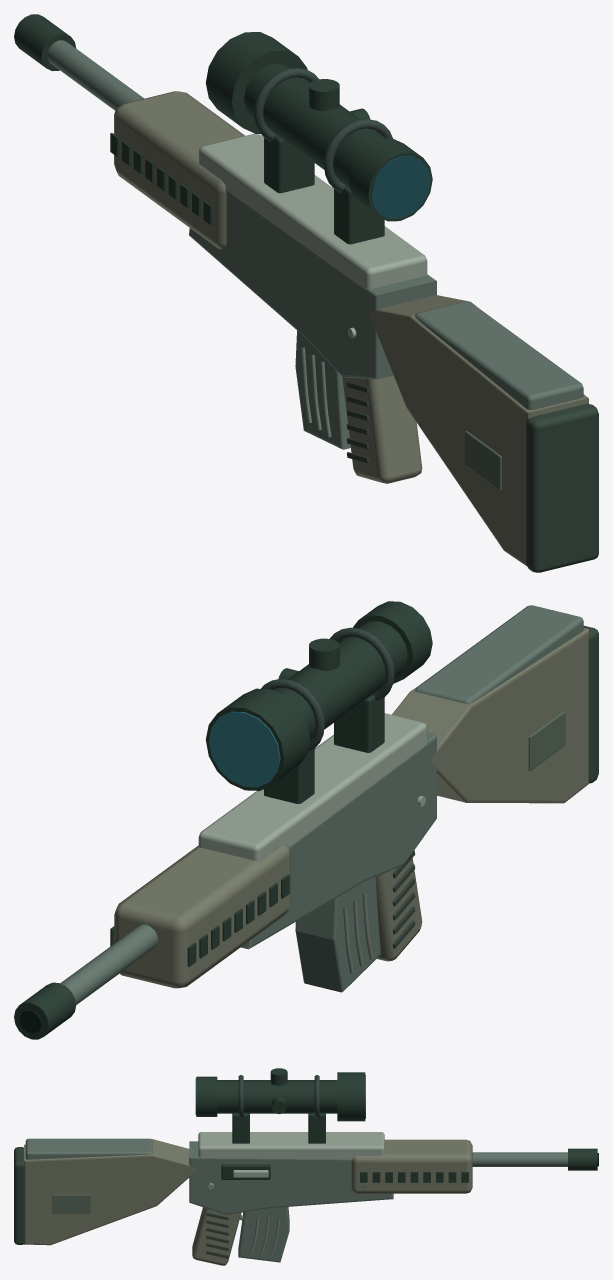
3 renders of one model, top to bottom at view 1: azimuth 30°, elevation 25°; view 2: azimuth 150°, elevation 25°; view 3: azimuth 270°, elevation 25°, orthographic. The views are drawn at different scales.
Parts seen in each view (by area): view 1: g3sg1, magazine; view 2: g3sg1, magazine; view 3: g3sg1, magazine, bolt.
Boxes of the visible parts, x1,y1,x2,y2 form: g3sg1: (14, 14, 598, 572); magazine: (295, 330, 350, 449); g3sg1: (14, 601, 598, 1039); magazine: (295, 877, 380, 992); g3sg1: (14, 1068, 598, 1265); magazine: (238, 1207, 289, 1262); bolt: (221, 1164, 270, 1179).
Size of the model in its own units: 0.1485 by 0.5962 by 1.66.
